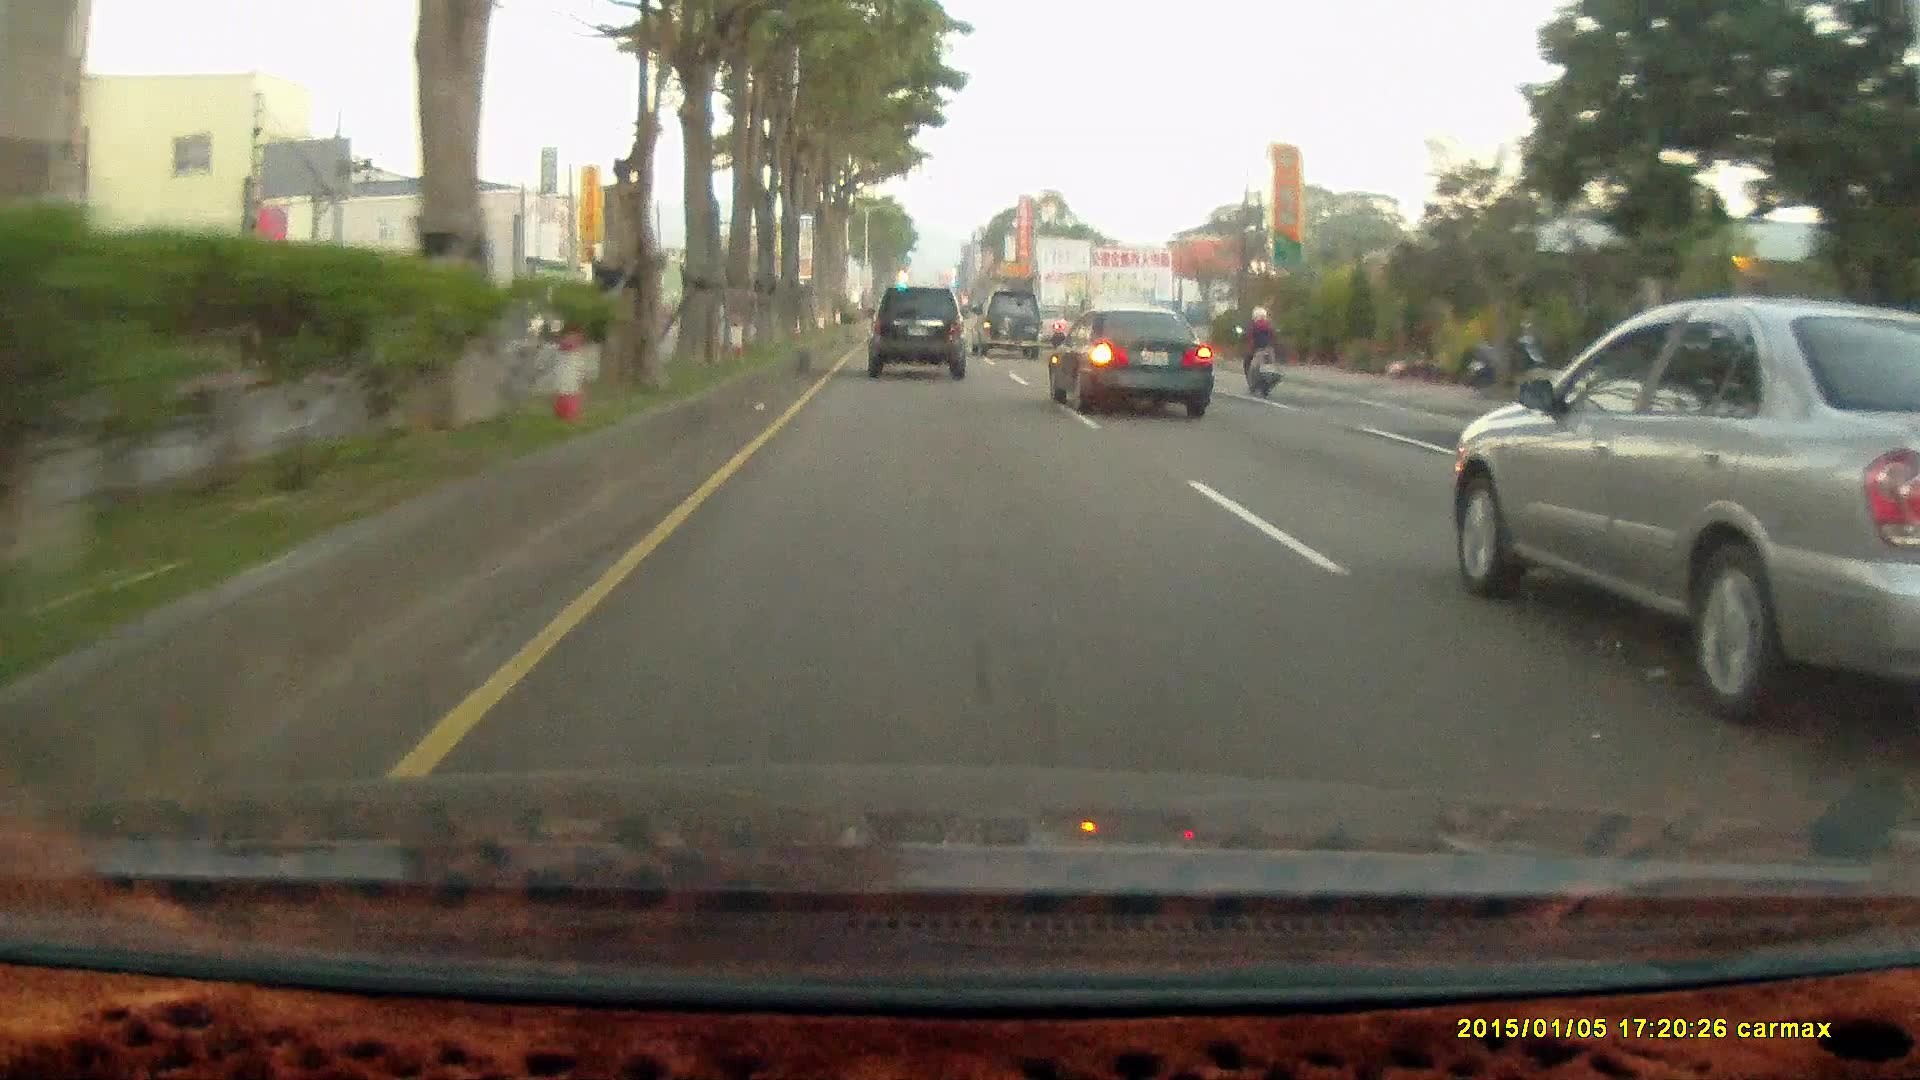rider: (1227, 293, 1293, 408), (1233, 297, 1285, 395)
vehicle: (1452, 297, 1915, 727), (1046, 302, 1218, 414), (1046, 306, 1213, 419), (865, 281, 977, 380), (863, 286, 964, 377), (975, 284, 1047, 356), (971, 288, 1041, 355)
